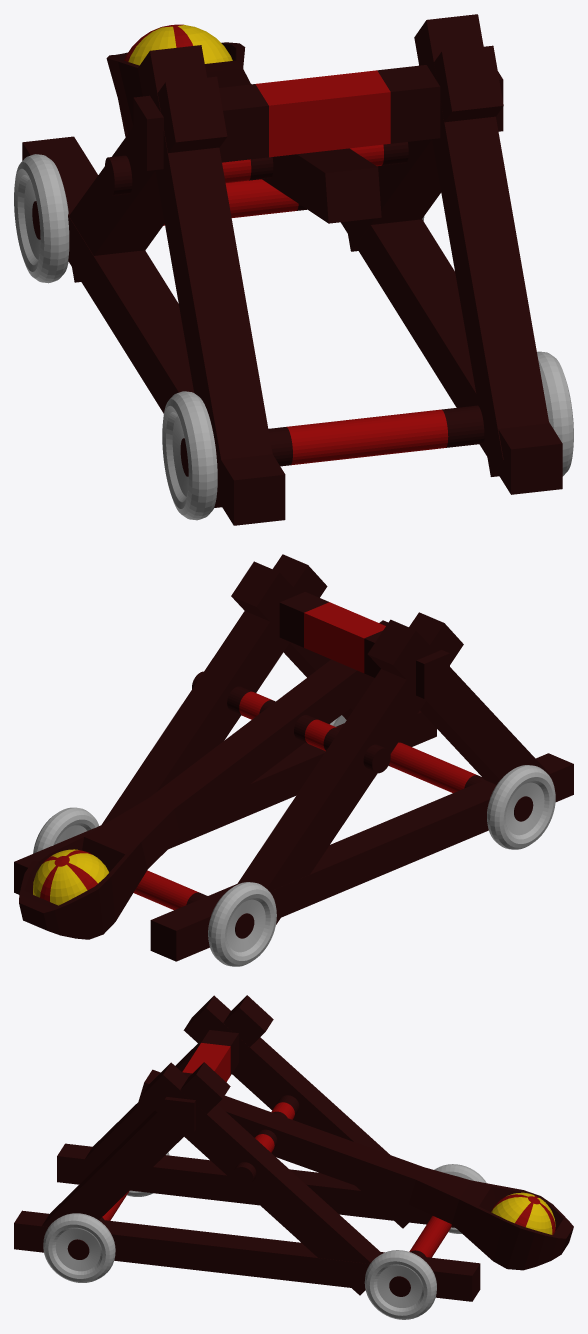
File: ОркКатапульта3.fbx
3 renders of one model, top to bottom at view 1: azimuth 30°, elevation 25°; view 2: azimuth 150°, elevation 25°; view 3: azimuth 270°, elevation 25°, orthographic. The views are drawn at different scales.
Parts seen in each view (by area): view 1: Куб.113, Куб.110, Куб.117, Куб.116, Куб.115, Куб.112, Куб.111, Куб.114, Цилиндр.279, Тор.034, Тор.033, Цилиндр.277 (+3 smaller); view 2: Куб.111, Куб.116, Куб.112, Куб.114, Куб.110, Куб.117, Куб.115, Тор.033, Тор.034, Куб.113, Сфера.009, Цилиндр.277 (+3 smaller); view 3: Куб.111, Куб.115, Куб.114, Куб.112, Куб.116, Куб.113, Тор.036, Тор.035, Куб.110, Куб.117, Сфера.009, Цилиндр.278 (+3 smaller).
Part boxes in pixels (bbox=[...]): Куб.113: bbox=[414, 14, 548, 476]; Куб.110: bbox=[137, 45, 272, 507]; Куб.117: bbox=[133, 65, 503, 170]; Куб.116: bbox=[22, 136, 285, 525]; Куб.115: bbox=[341, 219, 562, 494]; Куб.112: bbox=[69, 76, 227, 282]; Куб.111: bbox=[106, 42, 381, 223]; Куб.114: bbox=[346, 45, 503, 251]; Цилиндр.279: bbox=[180, 405, 484, 476]; Тор.034: bbox=[14, 154, 69, 283]; Тор.033: bbox=[162, 391, 217, 520]; Цилиндр.277: bbox=[105, 142, 408, 195]; Куб.111: bbox=[19, 620, 388, 939]; Куб.116: bbox=[150, 753, 573, 961]; Куб.112: bbox=[237, 612, 463, 924]; Куб.114: bbox=[101, 554, 327, 825]; Куб.110: bbox=[367, 619, 549, 784]; Куб.117: bbox=[279, 592, 449, 698]; Куб.115: bbox=[14, 710, 436, 894]; Тор.033: bbox=[487, 765, 555, 849]; Тор.034: bbox=[208, 882, 276, 966]; Куб.113: bbox=[231, 561, 423, 746]; Сфера.009: bbox=[33, 849, 108, 905]; Цилиндр.277: bbox=[192, 671, 390, 773]; Куб.111: bbox=[137, 1069, 573, 1270]; Куб.115: bbox=[14, 1210, 480, 1301]; Куб.114: bbox=[141, 1062, 380, 1295]; Куб.112: bbox=[183, 995, 420, 1228]; Куб.116: bbox=[57, 1143, 455, 1227]; Куб.113: bbox=[42, 1062, 230, 1226]; Тор.036: bbox=[43, 1213, 115, 1282]; Тор.035: bbox=[364, 1250, 436, 1319]; Куб.110: bbox=[73, 995, 273, 1179]; Куб.117: bbox=[164, 1030, 238, 1132]; Сфера.009: bbox=[491, 1192, 555, 1235]; Цилиндр.278: bbox=[389, 1215, 452, 1296].
Size of the model in its own units: 107 by 78.91 by 185.
